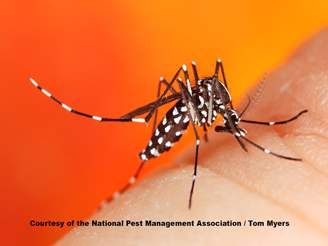mosquito: (26, 54, 317, 210)
